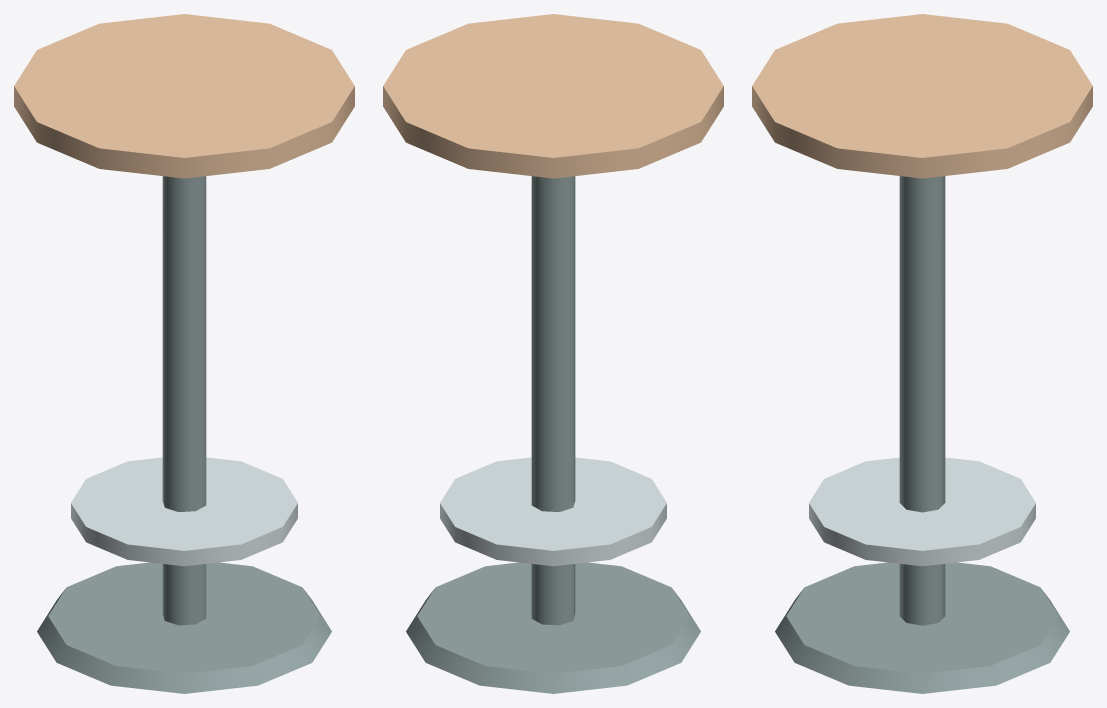
File: barTableHigh.glb
3 views of the same model, side by side, from view 1: azimuth 30°, elevation 25°; view 2: azimuth 150°, elevation 25°; view 3: azimuth 270°, elevation 25° (orthographic).
Visible parts, largest first — view 1: barTableHigh; view 2: barTableHigh; view 3: barTableHigh.
Boxes of the visible parts, x1,y1,x2,y2 form: barTableHigh: (14,14,354,693); barTableHigh: (383,14,723,693); barTableHigh: (752,14,1092,693).
Size of the model in its own units: 0.3 by 0.53 by 0.3.
